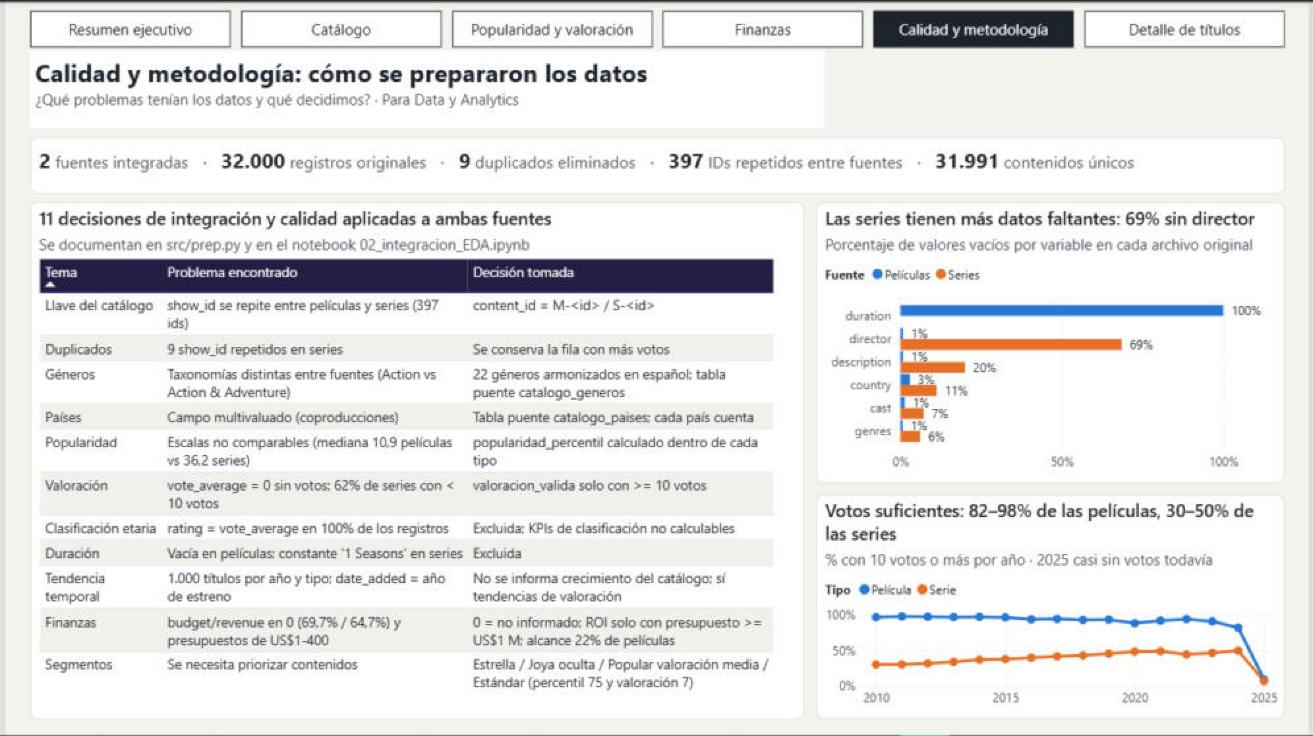

The page's visual inventory and layout, read from the dashboard file:
{"tool":"powerbi","page":{"name":"Calidad y metodología","canvas":[1280,720],"ordinal":4},"visuals":[{"type":"textbox","box":[24,48,780,76],"z":1000},{"type":"pageNavigator","box":[24,8,1232,36],"z":2000},{"type":"textbox","box":[24,132,1232,56],"z":3000},{"type":"tableEx","title":"11 decisiones de integración y calidad aplicadas a ambas fuentes","fields":{"Values":["Decisiones.tema","Decisiones.hallazgo","Decisiones.decision"]},"box":[24,196,760,508],"z":4000},{"type":"clusteredBarChart","title":"Las series tienen más datos faltantes: 69% sin director","fields":{"Category":["CalidadDatos.variable"],"Series":["CalidadDatos.fuente"],"Y":["CalidadDatos.% de valores faltantes"]},"box":[796,196,460,276],"z":5000},{"type":"lineChart","title":"Votos suficientes: 82–98% de las películas, 30–50% de las series","fields":{"Category":["Catalogo.anio_estreno"],"Series":["Catalogo.tipo"],"Y":["Catalogo.% valoración confiable"]},"box":[796,484,460,220],"z":6000}]}

Visuals, with their boxes in screenshot pixels (x1, y1, x2, y2), scaled from the page's 1280x720 canvas onto the 1313x736 screenshot:
textbox: box=[25, 49, 825, 127]
pageNavigator: box=[25, 8, 1288, 45]
textbox: box=[25, 135, 1288, 192]
"11 decisiones de integración y calidad aplicadas a ambas fuentes" tableEx: box=[25, 200, 804, 720]
"Las series tienen más datos faltantes: 69% sin director" clusteredBarChart: box=[817, 200, 1288, 482]
"Votos suficientes: 82–98% de las películas, 30–50% de las series" lineChart: box=[817, 495, 1288, 720]
